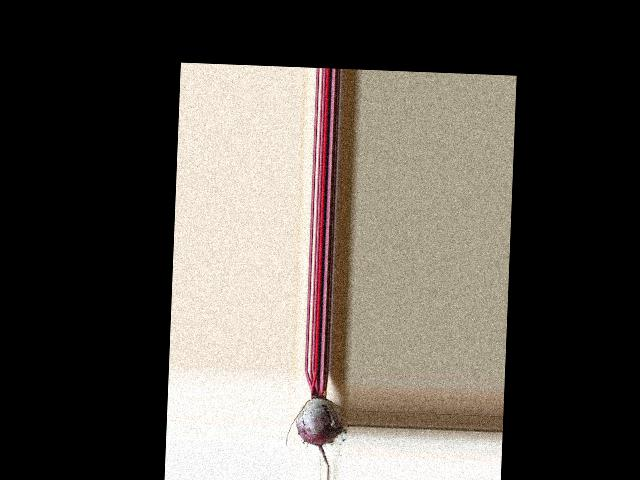beet: (285, 370, 344, 467)
